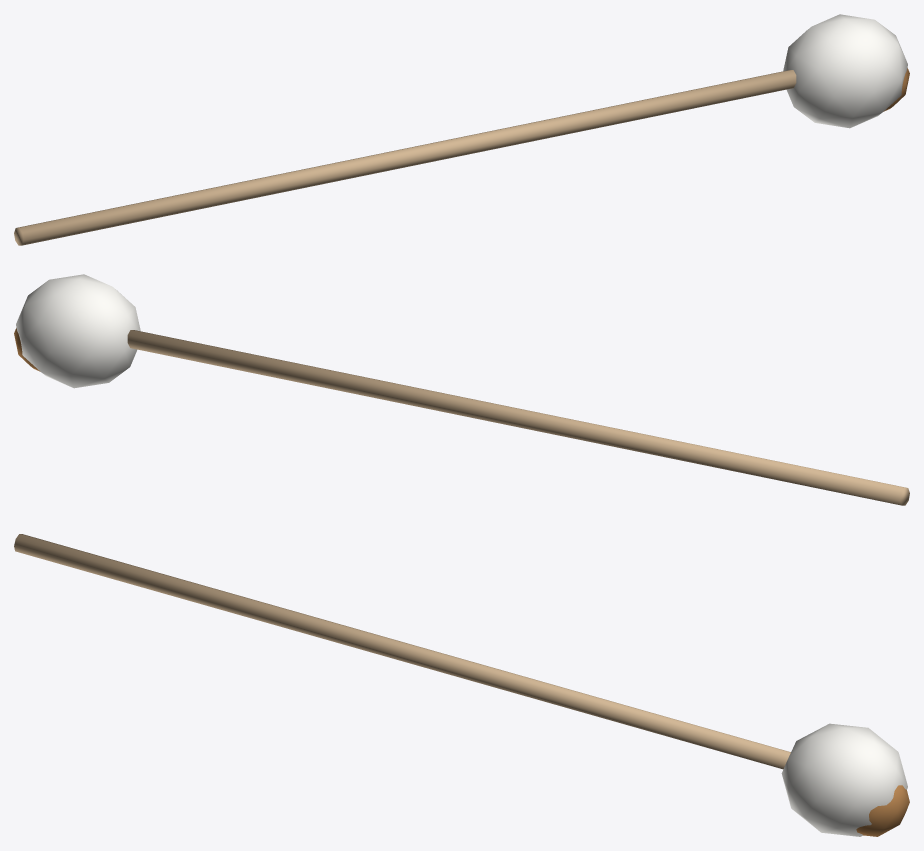
The model's file is marshmallow_stick.glb.
3 renders of one model, top to bottom at view 1: azimuth 30°, elevation 25°; view 2: azimuth 150°, elevation 25°; view 3: azimuth 330°, elevation 25°, orthographic.
Parts seen in each view (by area): view 1: marshmallow_stick; view 2: marshmallow_stick; view 3: marshmallow_stick.
Boxes of the visible parts, x1,y1,x2,y2 form: marshmallow_stick: (14,14,909,245); marshmallow_stick: (14,274,909,505); marshmallow_stick: (14,534,909,836).
Size of the model in its own units: 1.16 by 0.13 by 0.13.
